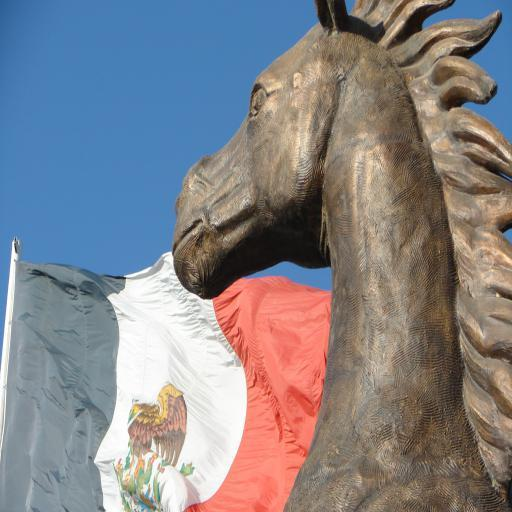horse: (172, 0, 512, 512)
